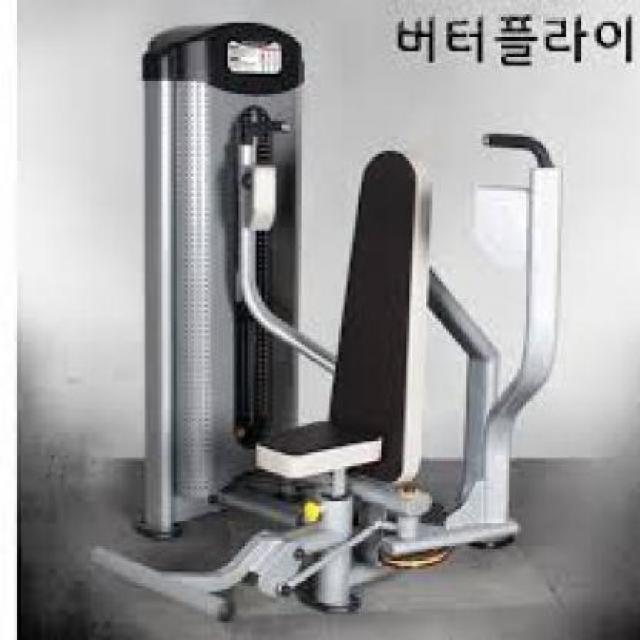chest fly machine: (55, 0, 577, 622)
